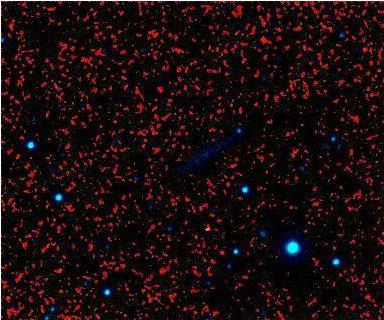star: (194, 212, 224, 242)
